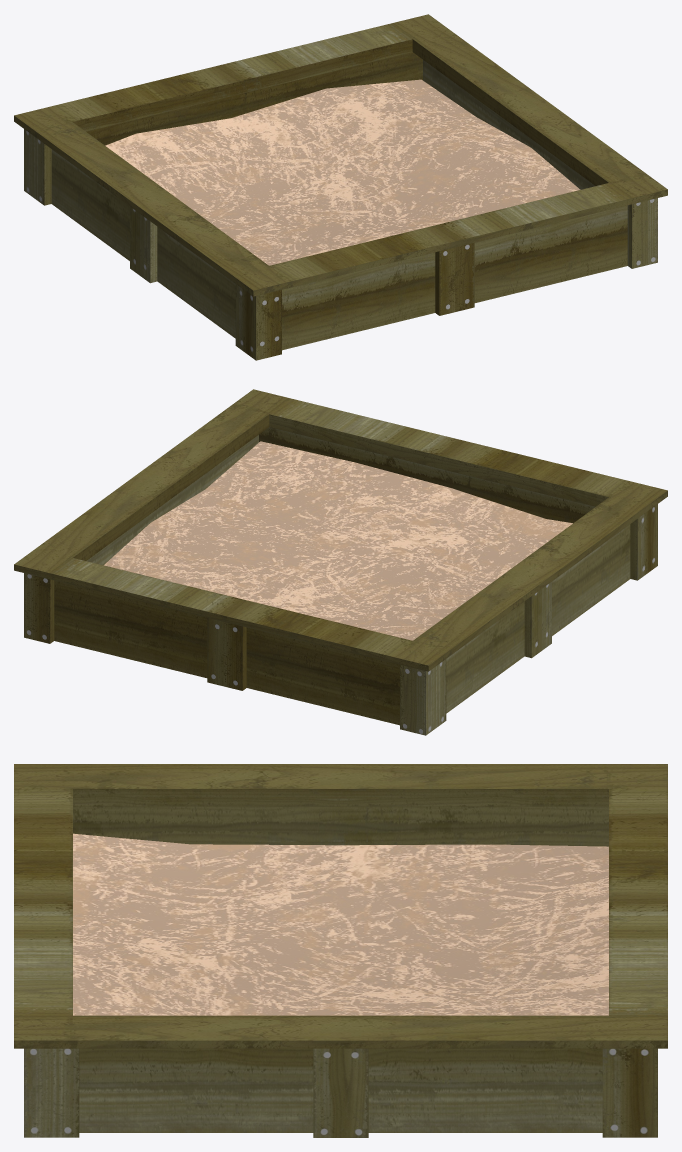
File: sandbox.glb
3 renders of one model, top to bottom at view 1: azimuth 30°, elevation 25°; view 2: azimuth 150°, elevation 25°; view 3: azimuth 270°, elevation 25°, orthographic. The views are drawn at different scales.
Visible parts, largest first — view 1: Cube.001, Cube.002; view 2: Cube.001, Cube.002; view 3: Cube.001, Cube.002.
Boxes of the visible parts, box(x1,y1,x2,y2) form: Cube.001: box(14, 14, 667, 360); Cube.002: box(105, 79, 580, 265); Cube.001: box(14, 389, 667, 735); Cube.002: box(104, 441, 572, 640); Cube.001: box(14, 764, 667, 1137); Cube.002: box(73, 833, 608, 1015).
Size of the model in its own units: 2 by 0.3428 by 2.
2 materials, 2 textured.
